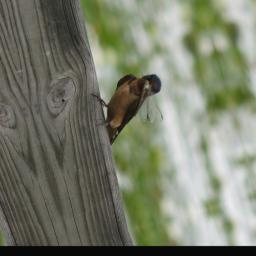Swallow: (83, 66, 175, 148)
